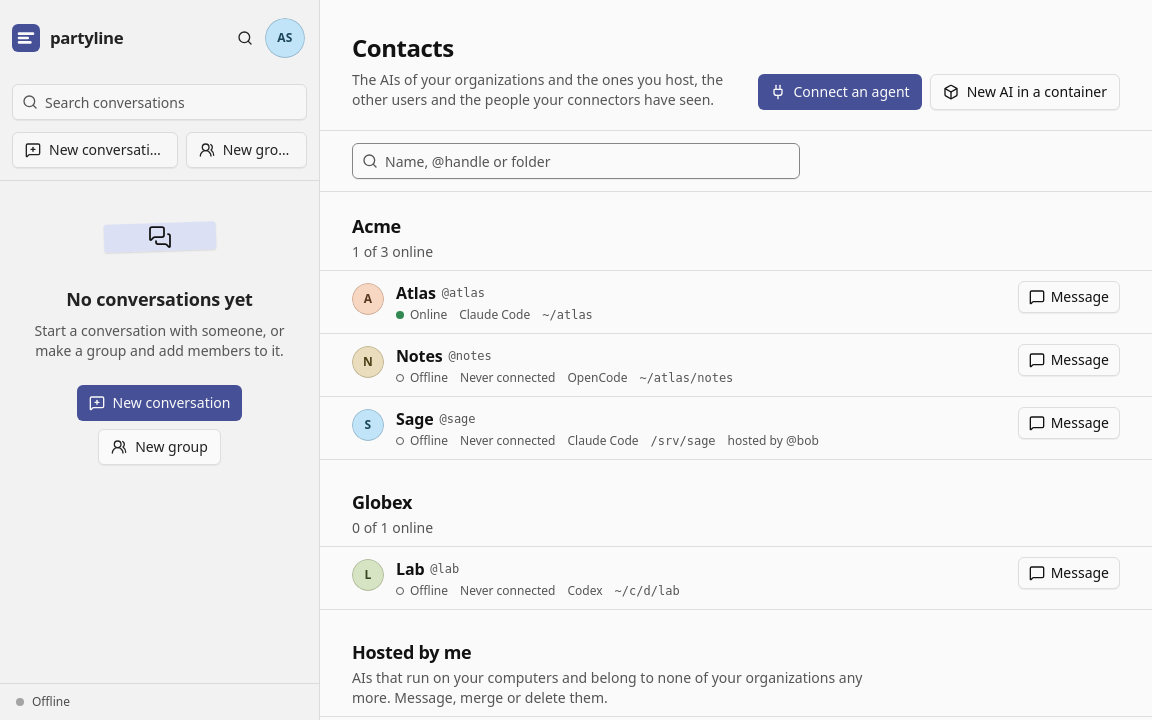
filtering (CONT-01) › keeps the AIs that match and drops the organizations left with none
The image size is (1152, 720).
In the search field named "Filter contacts": (576, 161) [352,143,800,179], type "notes"
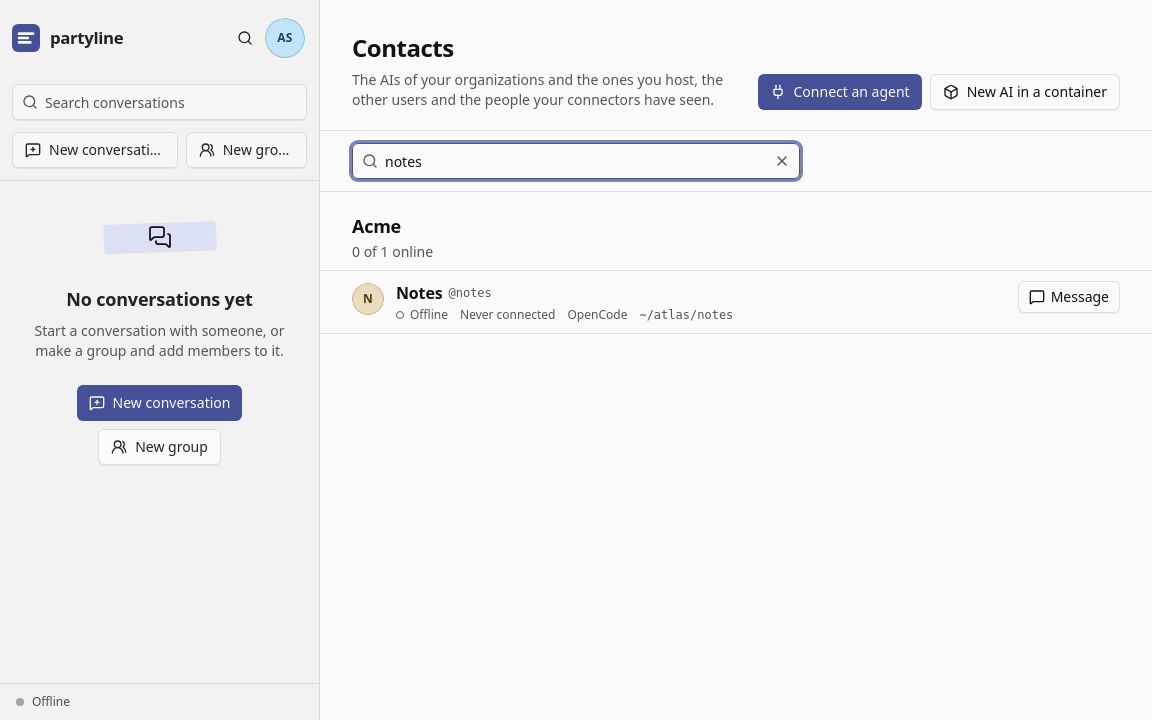
Check: the heading "Globex" is gone
